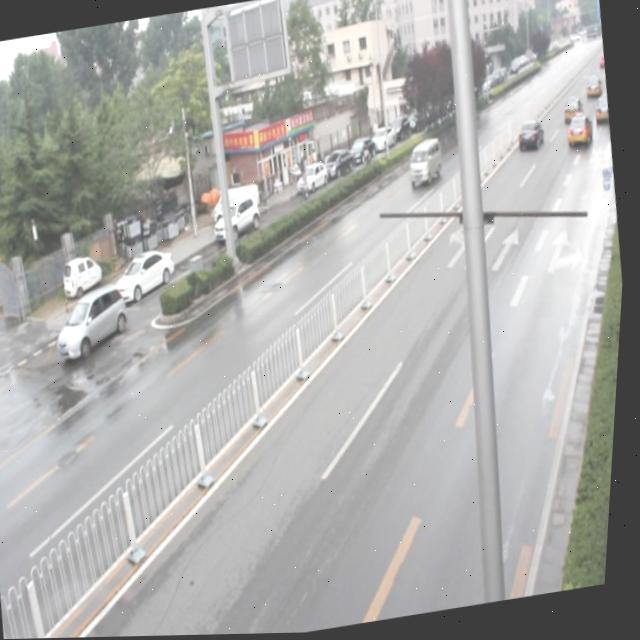car: (563, 115, 595, 152), (515, 119, 547, 153), (559, 97, 584, 126), (592, 98, 612, 128)
truck: (405, 135, 447, 191)
